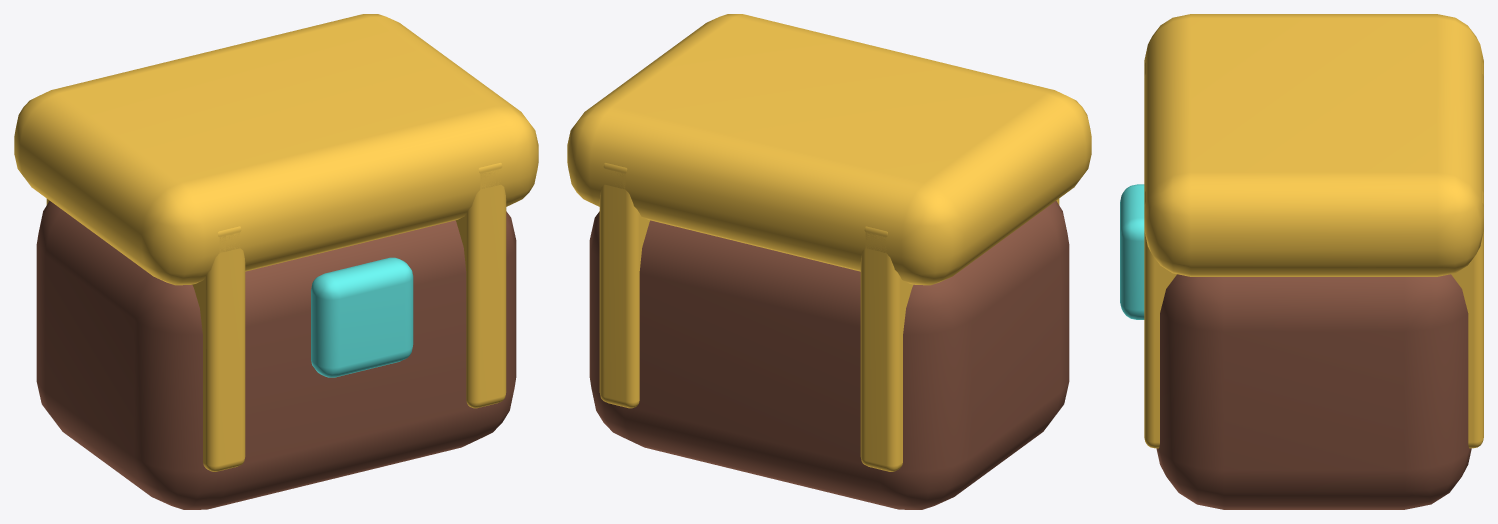
Rendered from chest.glb.
3 views of the same model, side by side, from view 1: azimuth 30°, elevation 25°; view 2: azimuth 150°, elevation 25°; view 3: azimuth 270°, elevation 25° (orthographic).
Parts seen in each view (by area): view 1: Arched lid, Treasure chest, Star lock, Chest band, Chest band.001; view 2: Arched lid, Treasure chest, Chest band, Chest band.001; view 3: Arched lid, Treasure chest, Chest band.001, Star lock.
Part boxes in pixels (box(x1,y1,x2,y2)): Arched lid: box(14, 14, 538, 285); Treasure chest: box(36, 201, 516, 509); Star lock: box(311, 257, 413, 377); Chest band: box(46, 198, 245, 471); Chest band.001: box(455, 163, 506, 408); Arched lid: box(567, 14, 1091, 285); Treasure chest: box(589, 201, 1069, 509); Chest band: box(860, 198, 1059, 471); Chest band.001: box(599, 163, 650, 408); Arched lid: box(1144, 14, 1483, 276); Treasure chest: box(1156, 274, 1471, 509); Chest band.001: box(1144, 191, 1483, 448); Star lock: box(1120, 184, 1144, 319).
Bounding box in the file's own units: 0.66 × 0.55 × 0.525.
